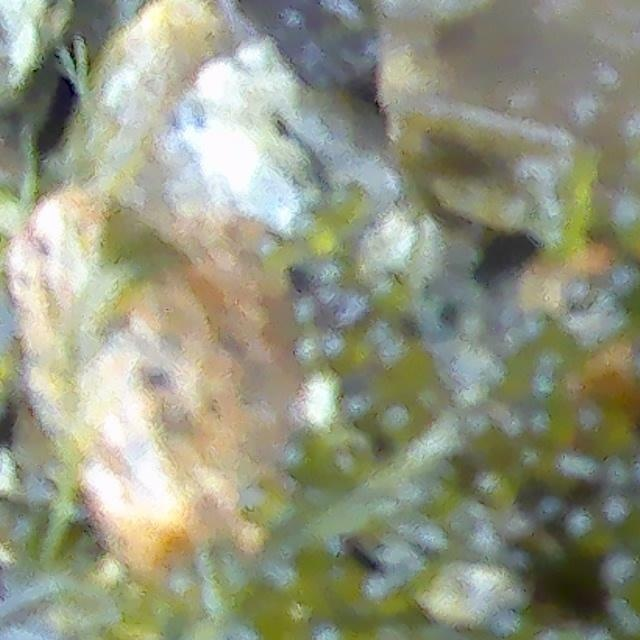SeaGrape: (428, 561, 499, 626), (371, 214, 417, 268)
